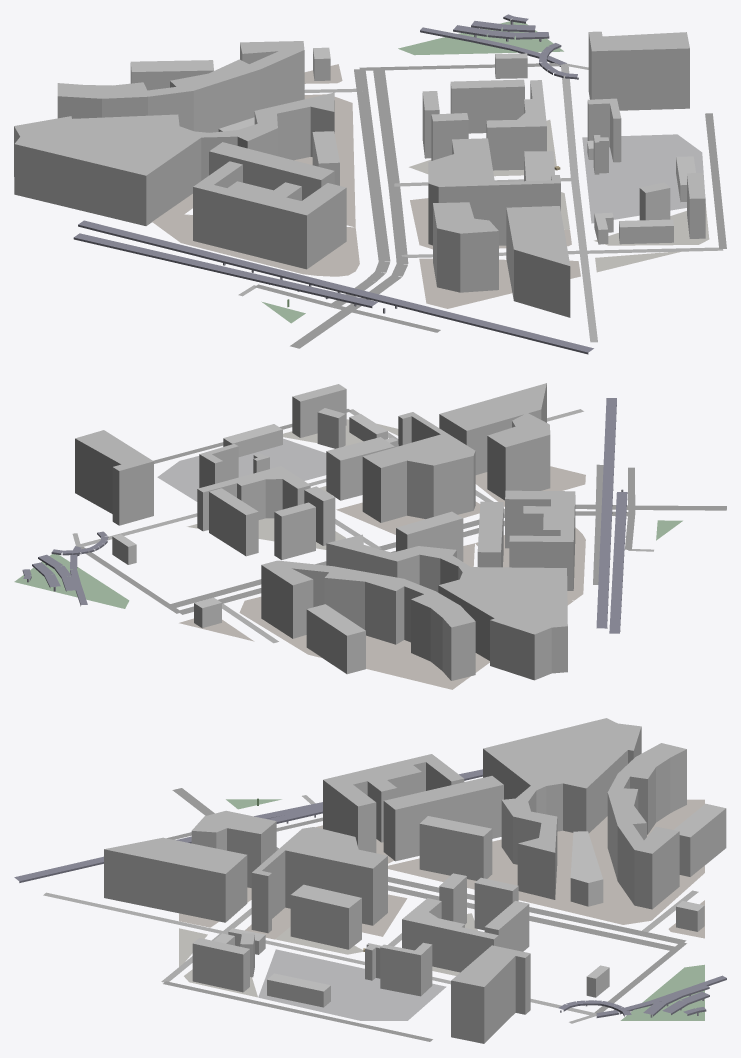
3 renders of one model, top to bottom at view 1: azimuth 30°, elevation 25°; view 2: azimuth 150°, elevation 25°; view 3: azimuth 270°, elevation 25°, orthographic. The views are drawn at different scales.
Bounding box in the file's own units: 629 × 63.38 × 678.
